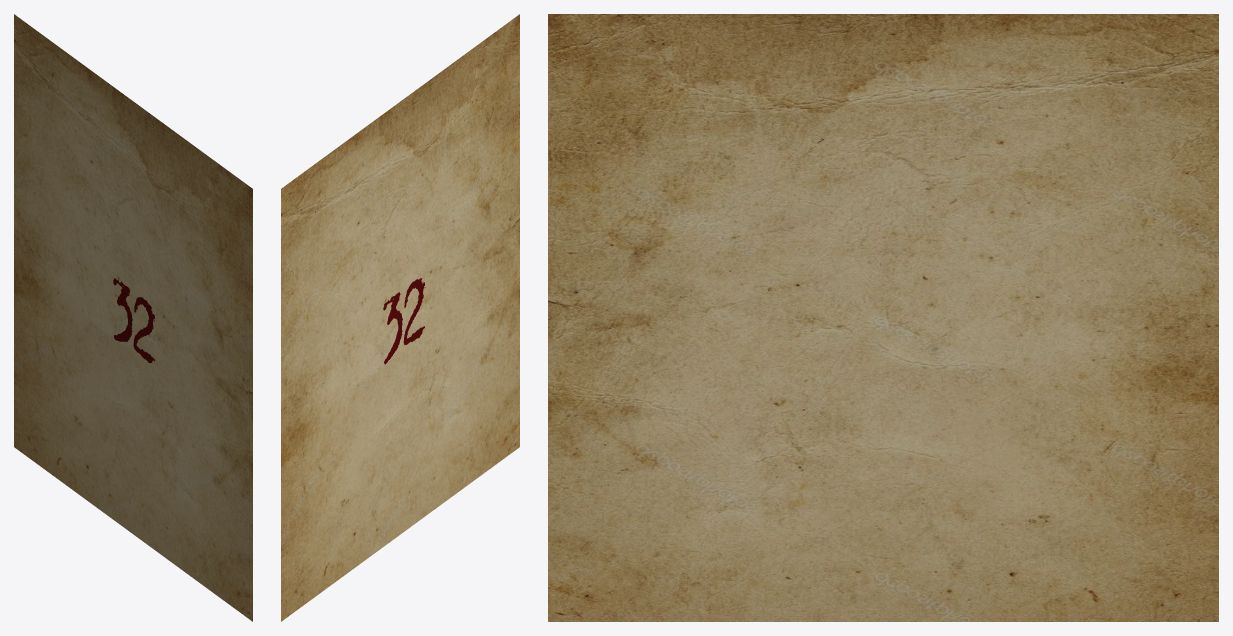
The model's file is MatKhau.fbx.
3 renders of one model, left to right at view 1: azimuth 30°, elevation 25°; view 2: azimuth 150°, elevation 25°; view 3: azimuth 270°, elevation 25°, orthographic. The views are drawn at different scales.
Parts seen in each view (by area): view 1: Plane, Text; view 2: Plane, Text; view 3: Plane.
Part boxes in pixels (left/top/right/bottom): Plane: left=14, top=14, right=252, bottom=621; Text: left=113, top=278, right=154, bottom=363; Plane: left=281, top=14, right=519, bottom=621; Text: left=383, top=278, right=425, bottom=364; Plane: left=548, top=14, right=1218, bottom=621.
Size of the model in its own units: 0.0886 by 23.13 by 23.13.
